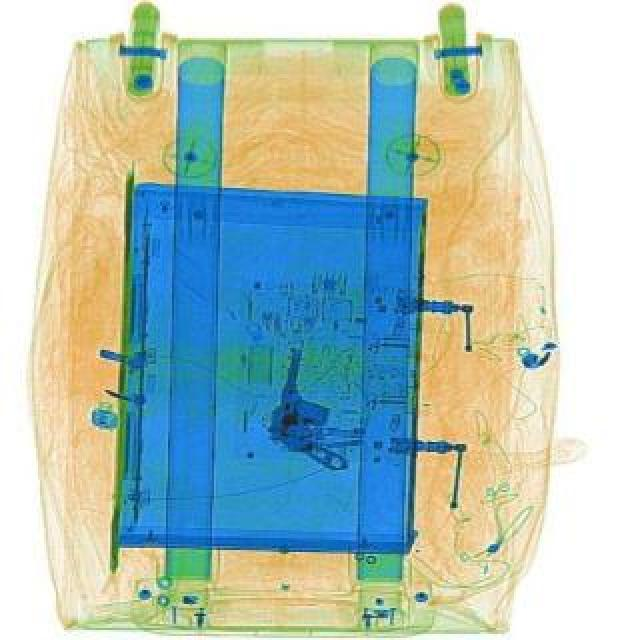gun: (260, 344, 358, 472)
